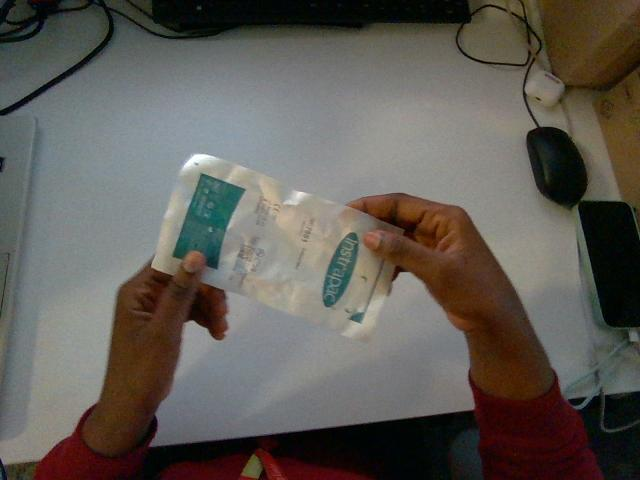gallipot: (152, 154, 401, 340)
